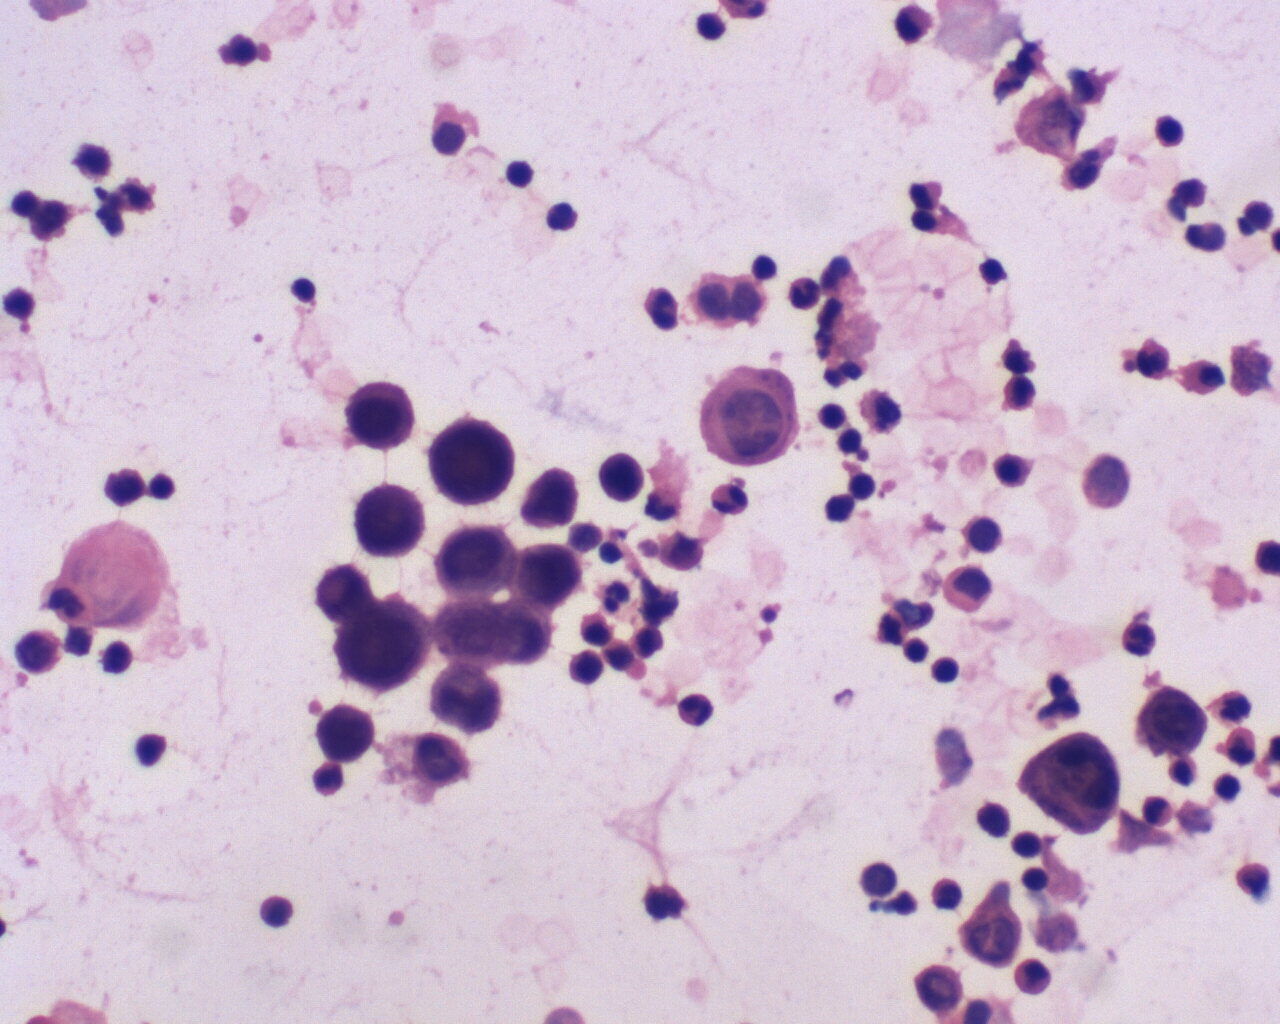ab: (1016, 732, 1122, 840), (336, 597, 429, 693), (429, 414, 521, 508), (348, 483, 433, 563), (430, 523, 518, 601), (1134, 686, 1221, 757), (424, 664, 502, 740), (345, 379, 422, 453), (514, 539, 589, 613), (313, 703, 373, 765)
lymph: (287, 270, 329, 313), (143, 469, 184, 507), (1017, 859, 1053, 897), (812, 398, 850, 433), (927, 653, 964, 686), (502, 157, 538, 190)
neutro: (670, 691, 717, 734), (787, 275, 825, 313)
